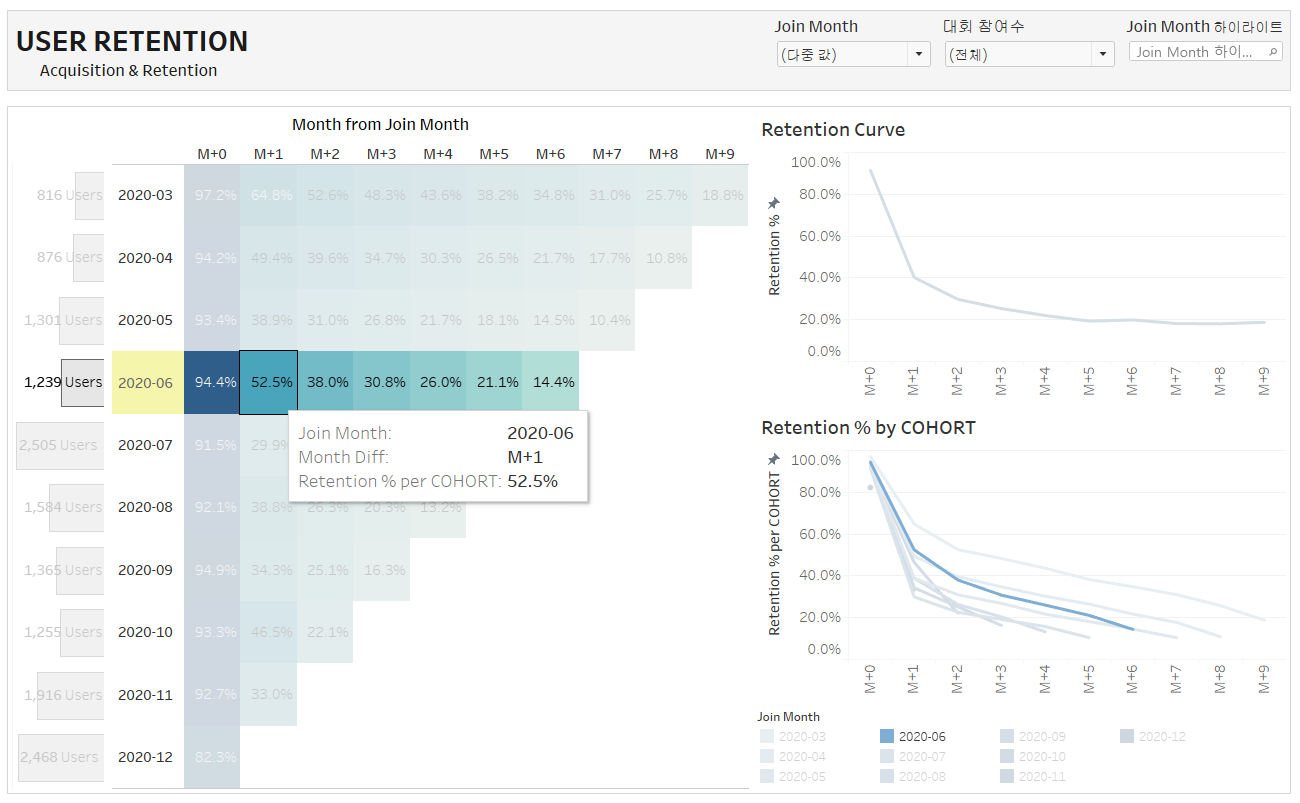

The dashboard page shown, as its layout file describes it:
{"tool":"tableau","page":{"name":"대시보드 1","canvas":[1300,800],"ordinal":0},"visuals":[{"type":"text","box":[9,9,762,79]},{"type":"filter","title":"Retention Rate (Rolling)","param":"[federated.1o8mmy71lb3yns189joni1n82h9h].[none:join_month:nk]","box":[771,9,168,79]},{"type":"filter","title":"Retention Rate (Rolling)","param":"[federated.1o8mmy71lb3yns189joni1n82h9h].[none:entered_competition_cnt:ok]","box":[939,9,184,79]},{"type":"highlighter","title":"Retention Rate (Rolling)","param":"[federated.1o8mmy71lb3yns189joni1n82h9h].[none:join_month:nk]","box":[1123,9,168,79]},{"type":"blank","box":[8,89,1284,15]},{"type":"text","box":[9,105,744.9,32.7]},{"type":"worksheet","title":"Retention Curve","mark":"Line","rows":["Calculation_396316821014298624"],"cols":["month_diff"],"box":[753.9,105,537.1,298.5]},{"type":"blank","box":[9,137.7,100,20]},{"type":"worksheet","title":"Retention Rate (Rolling)","mark":"Square","rows":["join_month"],"cols":["month_diff"],"box":[109,137.7,644.9,653.3]},{"type":"worksheet","title":"Count by Month","mark":"Automatic","rows":["join_month"],"cols":["user_id"],"box":[9,157.7,100,633.3]},{"type":"worksheet","title":"Retention % by COHORT","mark":"Line","rows":["Calculation_806988811728556032"],"cols":["month_diff"],"box":[753.9,403.5,537.1,298.5]},{"type":"legend","title":"Retention % by COHORT","param":"[federated.1o8mmy71lb3yns189joni1n82h9h].[none:join_month:nk]","box":[753.9,702,537.1,89]}]}

Visuals, with their boxes in screenshot pixels (x1, y1, x2, y2), scaled from the page's 1300x800 canvas onto the 1300x803 screenshot:
text: region(9, 9, 771, 88)
"Retention Rate (Rolling)" filter: region(771, 9, 939, 88)
"Retention Rate (Rolling)" filter: region(939, 9, 1123, 88)
"Retention Rate (Rolling)" highlighter: region(1123, 9, 1291, 88)
blank: region(8, 89, 1292, 104)
text: region(9, 105, 754, 138)
"Retention Curve" worksheet (Line marks): region(754, 105, 1291, 405)
blank: region(9, 138, 109, 158)
"Retention Rate (Rolling)" worksheet (Square marks): region(109, 138, 754, 794)
"Count by Month" worksheet: region(9, 158, 109, 794)
"Retention % by COHORT" worksheet (Line marks): region(754, 405, 1291, 705)
"Retention % by COHORT" legend: region(754, 705, 1291, 794)
